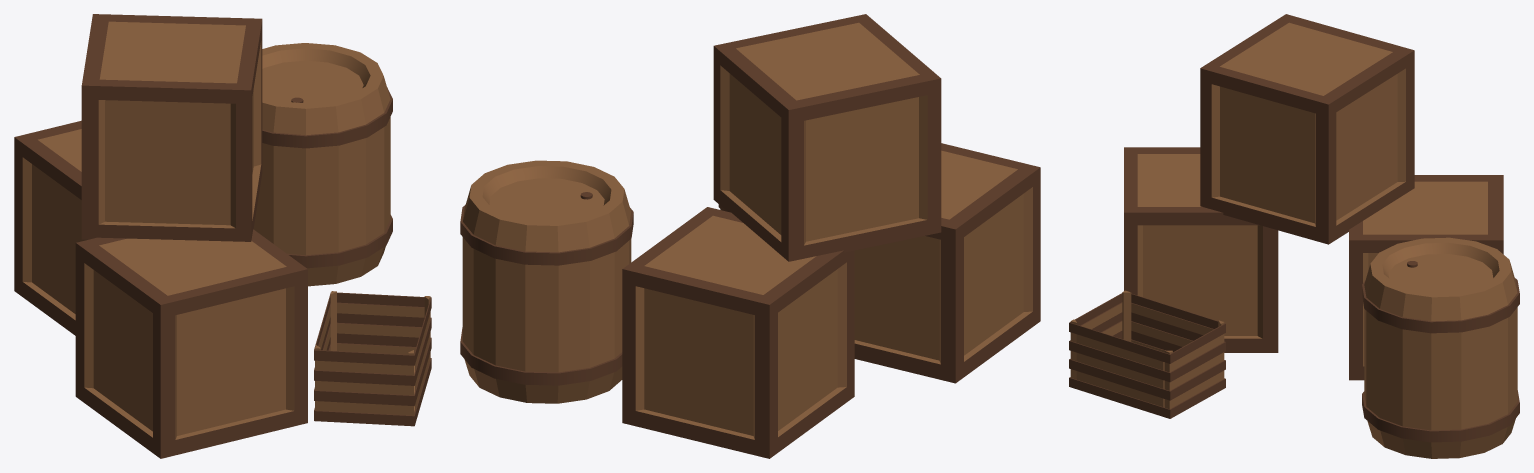
The model's file is props_v2.fbx.
3 renders of one model, left to right at view 1: azimuth 30°, elevation 25°; view 2: azimuth 150°, elevation 25°; view 3: azimuth 270°, elevation 25°, orthographic. The views are drawn at different scales.
Visible parts, largest first — view 1: pile v3; view 2: pile v3; view 3: pile v3.
Part boxes in pixels (x1,y1,x2,y2): pile v3: (14,14,431,458); pile v3: (460,14,1040,458); pile v3: (1069,14,1519,458).
Bounding box in the file's own units: 213 × 158 × 232.
1 material, 1 textured.
